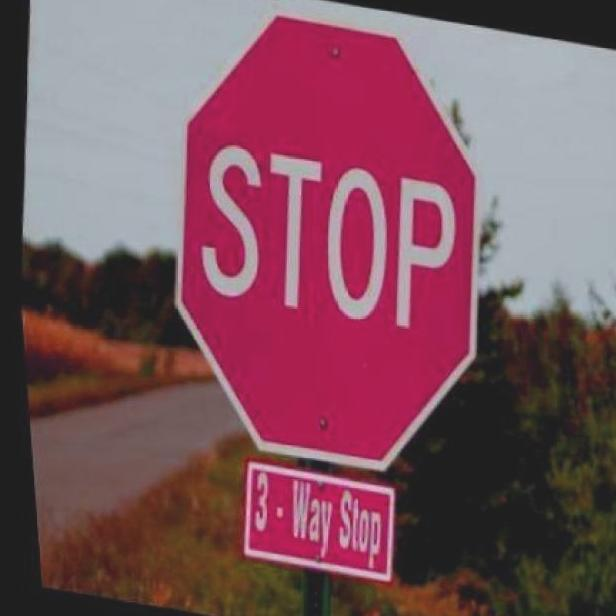stop_sign: (135, 0, 511, 482)
